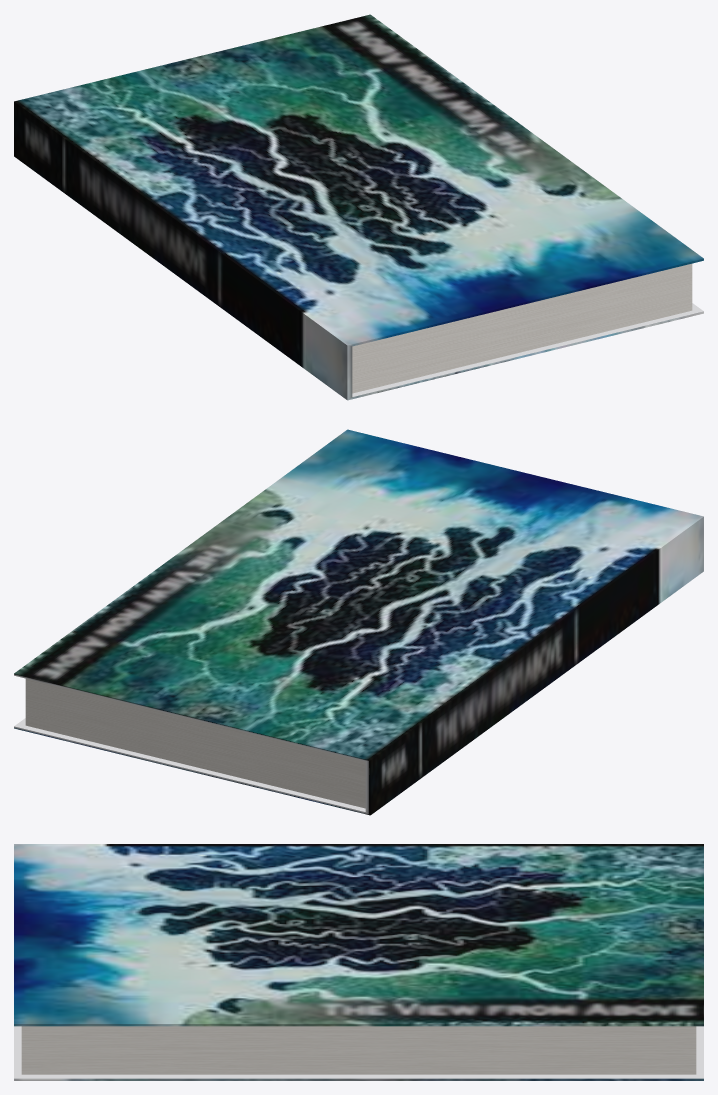
Rendered from book_02.fbx.
3 renders of one model, top to bottom at view 1: azimuth 30°, elevation 25°; view 2: azimuth 150°, elevation 25°; view 3: azimuth 270°, elevation 25°, orthographic. The views are drawn at different scales.
Visible parts, largest first — view 1: book_02; view 2: book_02; view 3: book_02.
Part boxes in pixels (box(x1,y1,x2,y2)): book_02: box(14, 14, 703, 400); book_02: box(14, 429, 703, 815); book_02: box(14, 844, 703, 1080).
Size of the model in its own units: 0.2749 by 0.0405 by 0.4453.
1 material, 1 textured.
